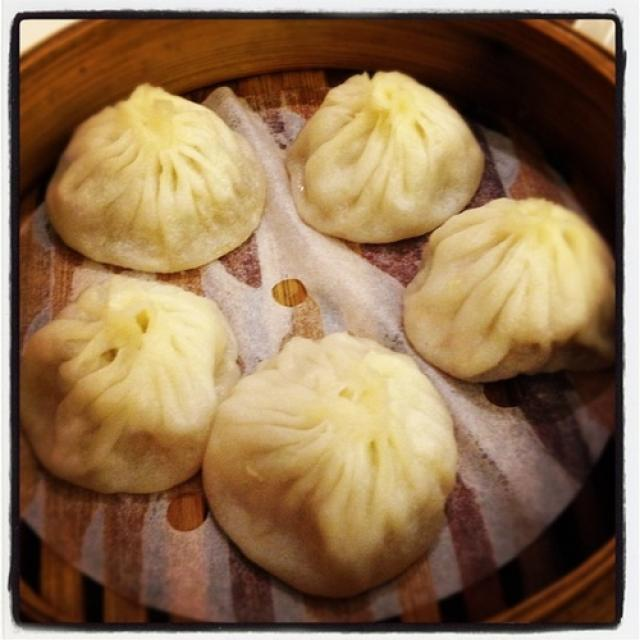带馅早点: (33, 28, 617, 597)
